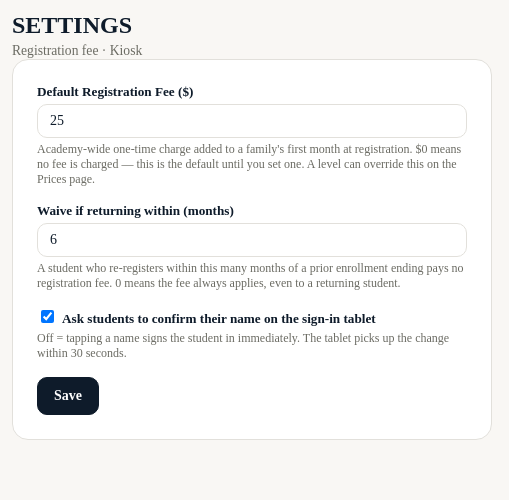
Test: AdminSettingsPage › saves an edited value and shows a confirmation
Replace the text in the number field labelled "Default Registration Fee ($)" with "40" at (252, 121), box left=37, top=104, right=467, bottom=138
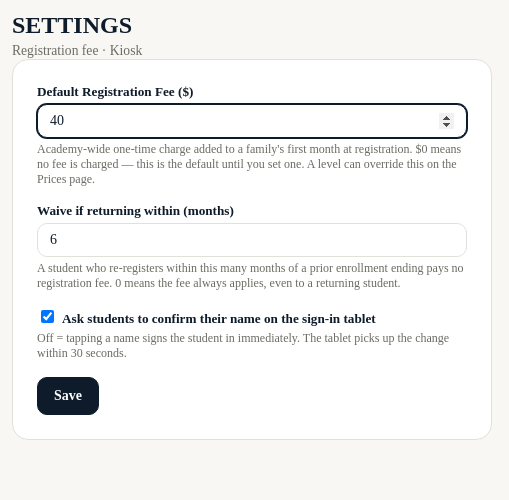
Click the button "Save" at (68, 396), box left=37, top=377, right=99, bottom=415
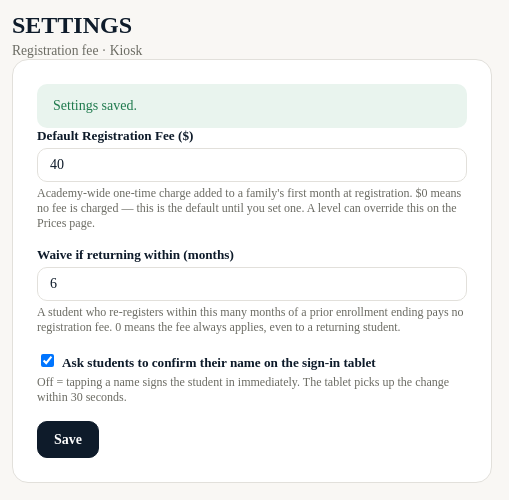
expect the text "Settings saved." is shown: met, box left=37, top=84, right=467, bottom=128
